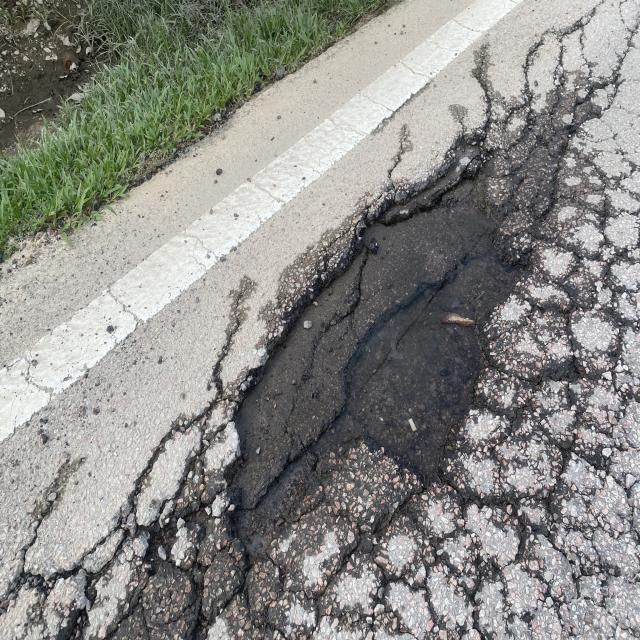pothole: (152, 72, 592, 640)
